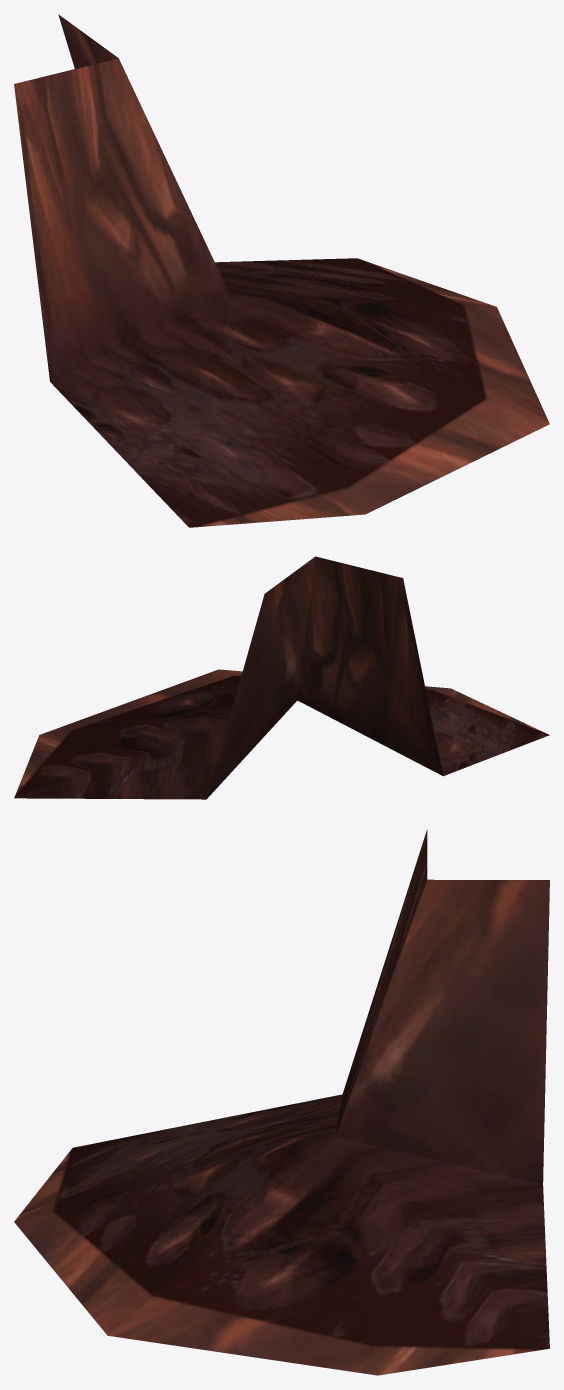
The model's file is lava_trim_convex_01.fbx.
3 views of the same model, one above another, from view 1: azimuth 30°, elevation 25°; view 2: azimuth 150°, elevation 25°; view 3: azimuth 270°, elevation 25° (orthographic). The views are drawn at different scales.
Visible parts, largest first — view 1: obj0.116; view 2: obj0.116; view 3: obj0.116.
Boxes of the visible parts, box(x1,y1,x2,y2) form: obj0.116: box(14, 14, 549, 527); obj0.116: box(14, 556, 549, 799); obj0.116: box(14, 829, 549, 1375).
Bounding box in the file's own units: 1.77 × 1.15 × 1.74.
